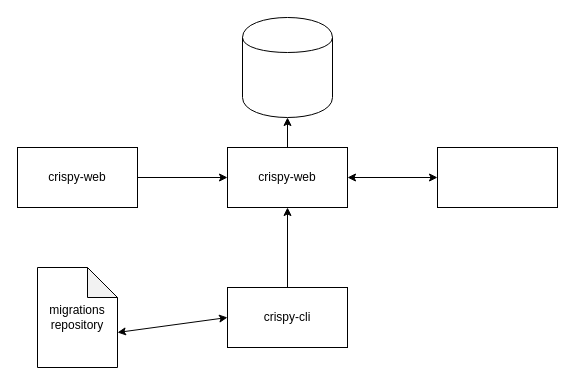
Some shapes in this 575 by 385 pixel diagram are drawn without their labels. Here are the shapes that lost their labels. From the top down, the centre of each, then its label:
point 287,67: MYSQL
point 497,177: crispy-worker
